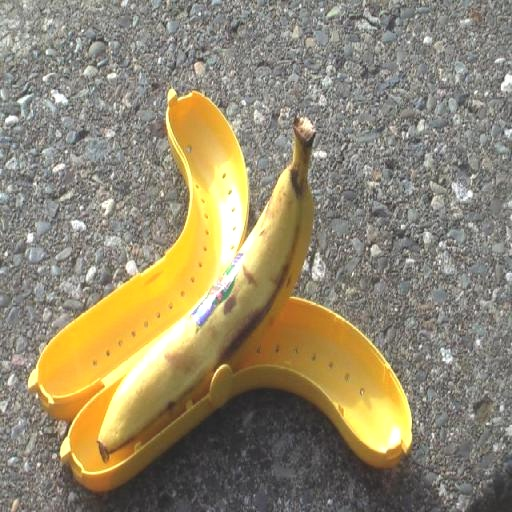fruit: (97, 118, 314, 460)
